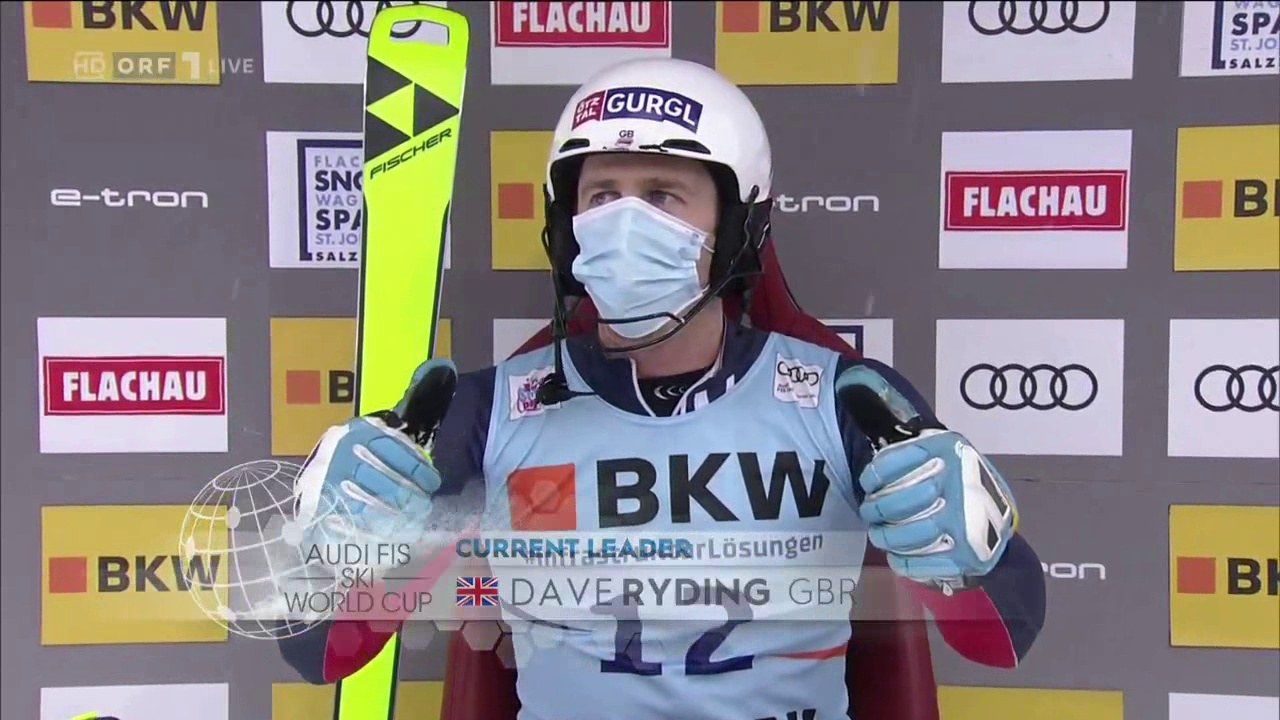BKW: (42, 533, 276, 617), (1166, 523, 1279, 629)
audi: (959, 362, 1096, 416), (968, 2, 1109, 46), (1193, 362, 1279, 422)
etron: (50, 186, 214, 216), (717, 190, 884, 218)
flachau: (943, 169, 1126, 235), (40, 357, 221, 418), (498, 1, 663, 51)
